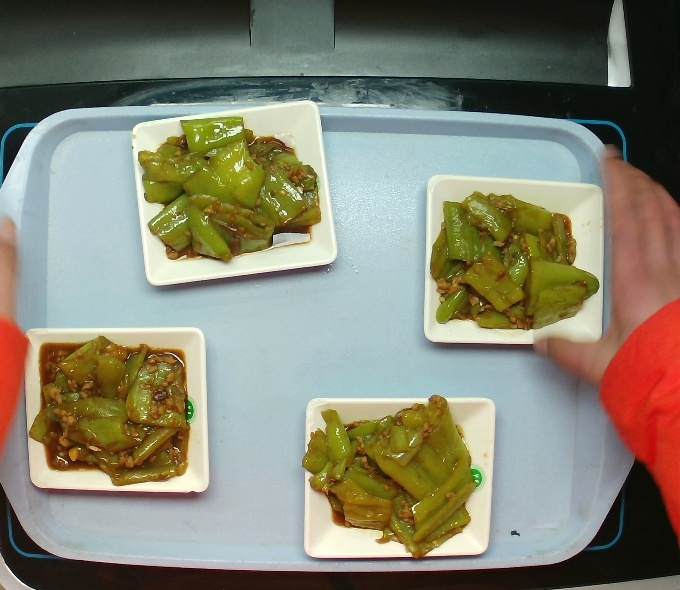wcq-RouMoQingJiao: (300, 386, 485, 568), (138, 107, 322, 273), (24, 332, 198, 495), (426, 191, 598, 339)
